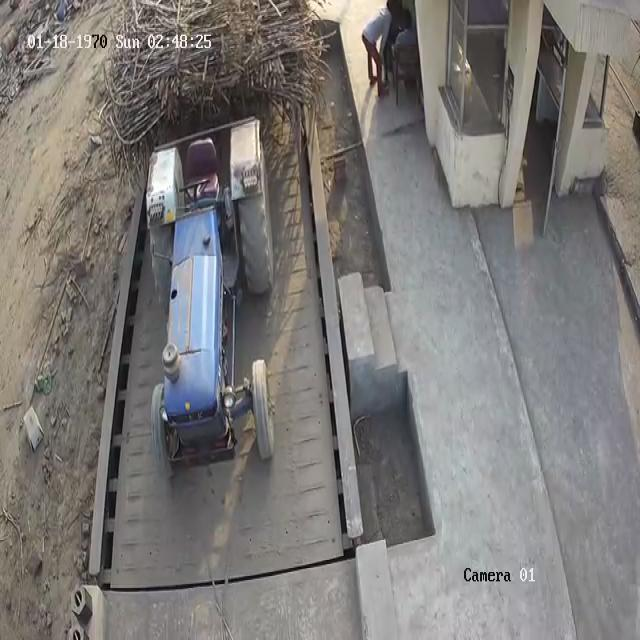Tratores - v5 YOLO V8L 2024-11-13: (143, 142, 285, 504)
